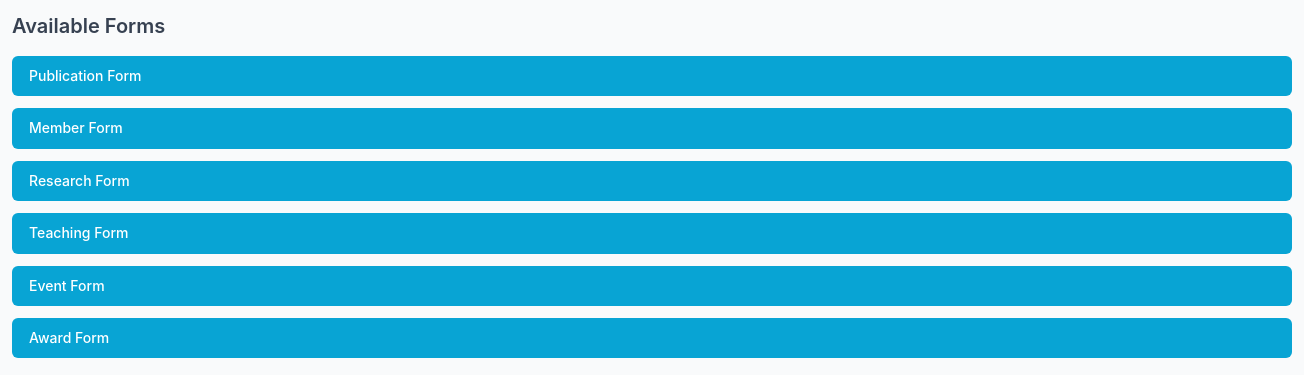
Test: AdminForm.vue › shows ResearchForm when clicking Research Form button
Click the button "Research Form" at (79, 180), box [12,161,1292,201]
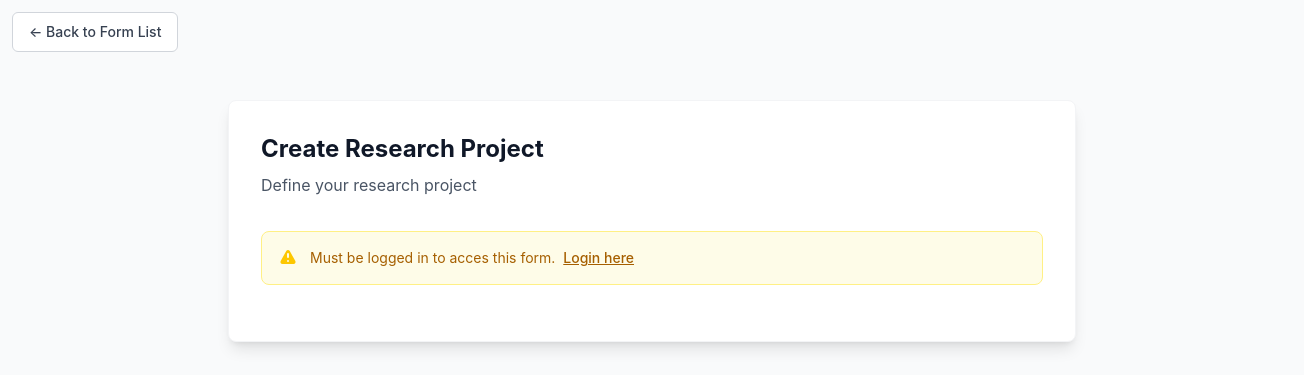
Expected: the button "← Back to Form List" is shown, [12,12,178,52]
